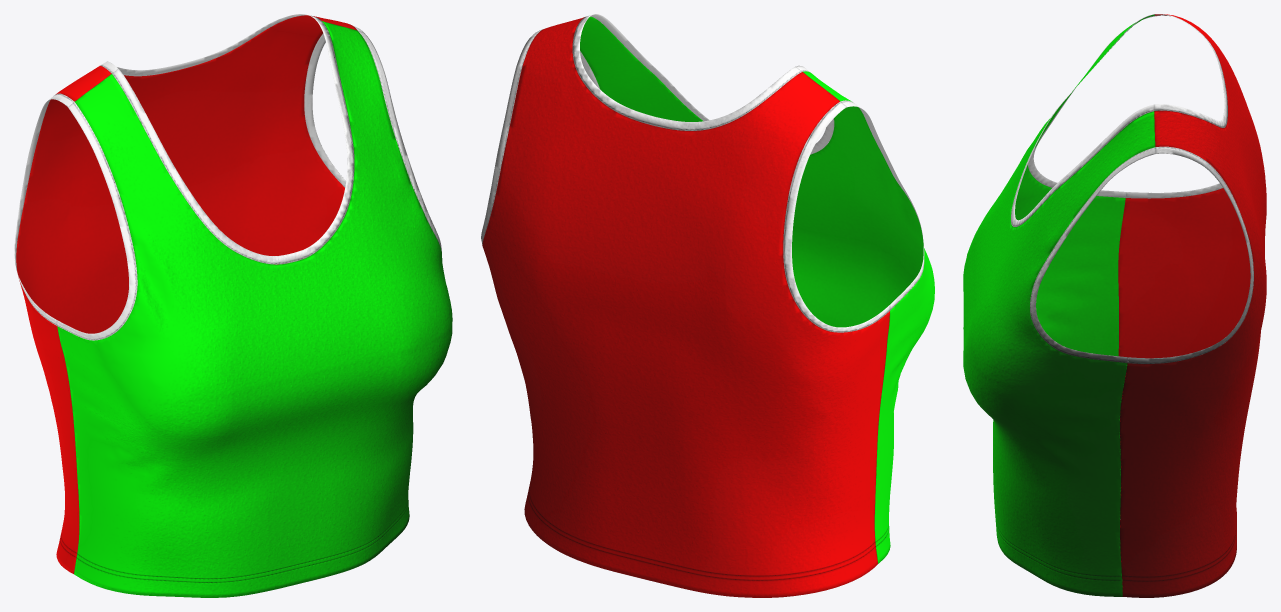
The model's file is crop top.glb.
The picture shows the model from 3 angles, left to right: view 1: azimuth 30°, elevation 25°; view 2: azimuth 150°, elevation 25°; view 3: azimuth 270°, elevation 25°; orthographic projection. The views are drawn at different scales.
Parts seen in each view (by area): view 1: 15AllOverPrintCropTop; view 2: 15AllOverPrintCropTop; view 3: 15AllOverPrintCropTop.
Boxes of the visible parts, left/top/right/bottom form: 15AllOverPrintCropTop: left=14, top=14, right=452, bottom=597; 15AllOverPrintCropTop: left=481, top=14, right=934, bottom=597; 15AllOverPrintCropTop: left=963, top=14, right=1266, bottom=597.
Bounding box in the file's own units: 0.2932 × 0.3891 × 0.2266.
Materials: 1 (1 with a texture image).
